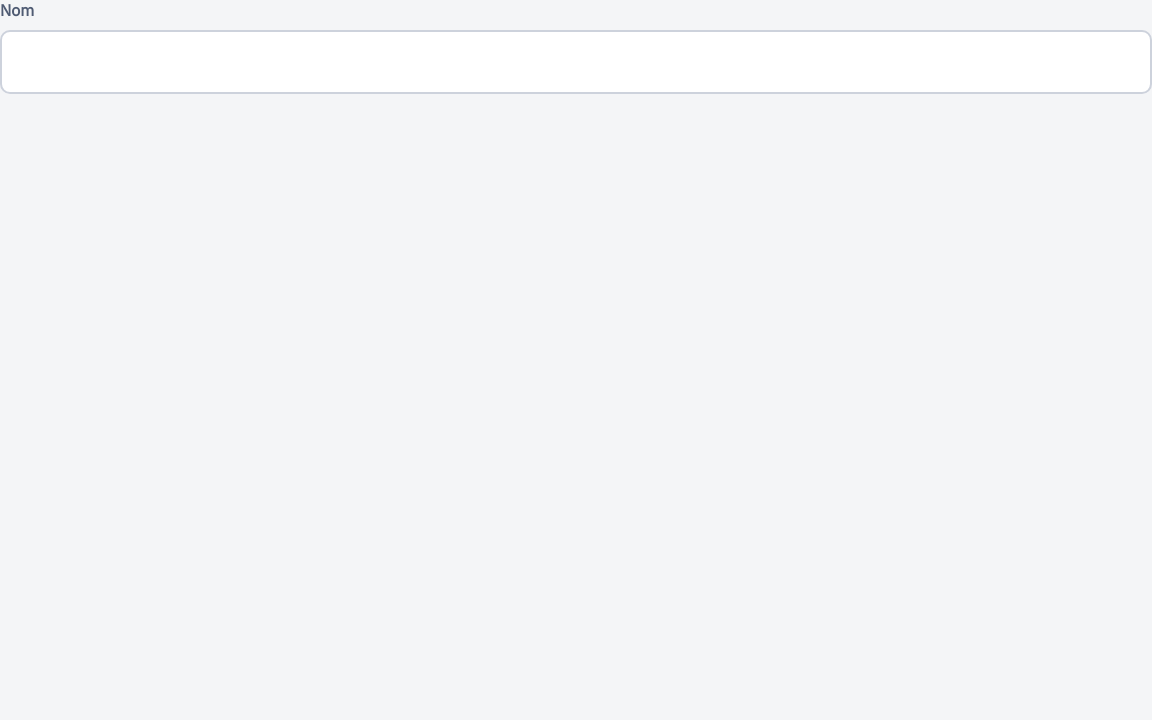
Test: TextField at the till › opens the on-screen keyboard on focus, types into the field and closes on blur
Focus the field labelled "Nom" at (576, 62), box x1=20 y1=34 x2=1132 y2=90
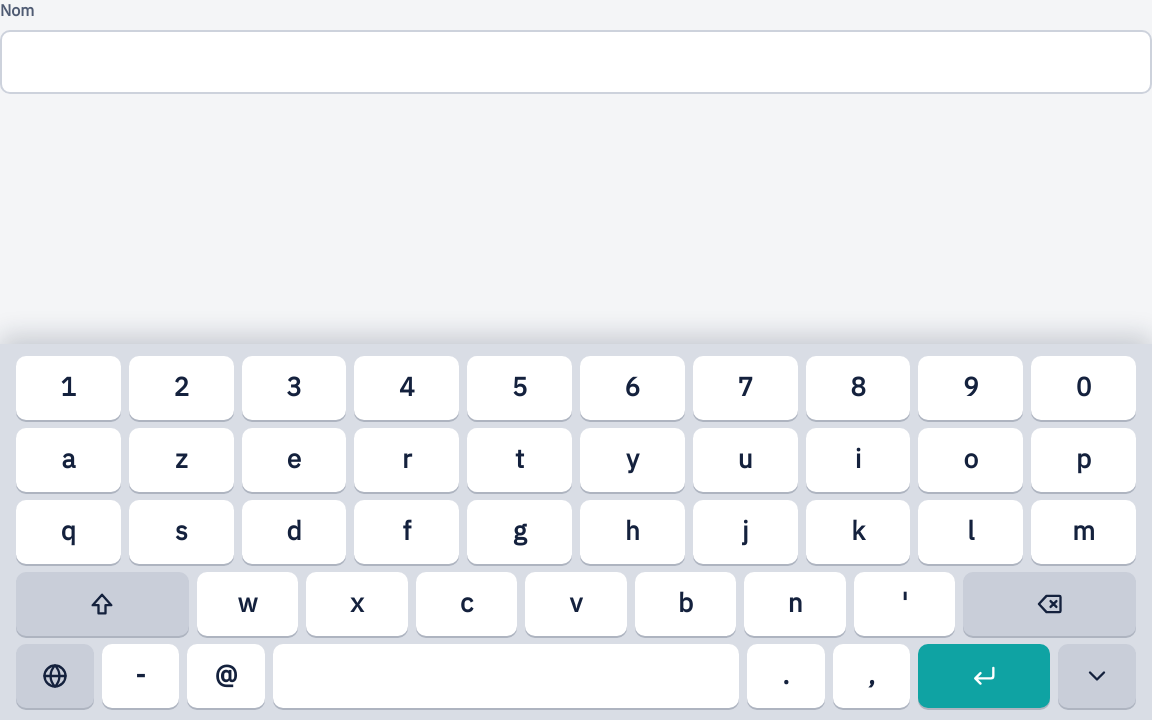
Expected: the element with test id "kbd-dock" is shown, x1=0 y1=344 x2=1151 y2=719
Click the button "a" at (68, 460), box x1=16 y1=428 x2=121 y2=492
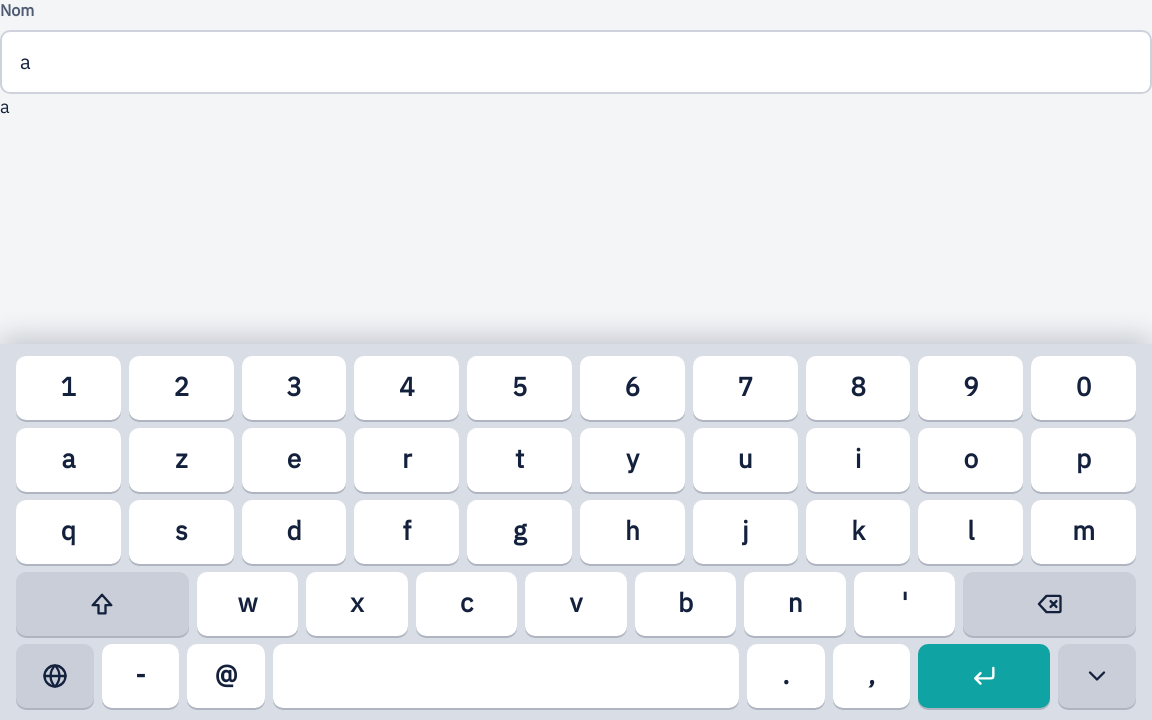
Click the button "z" at (181, 460), box x1=129 y1=428 x2=234 y2=492
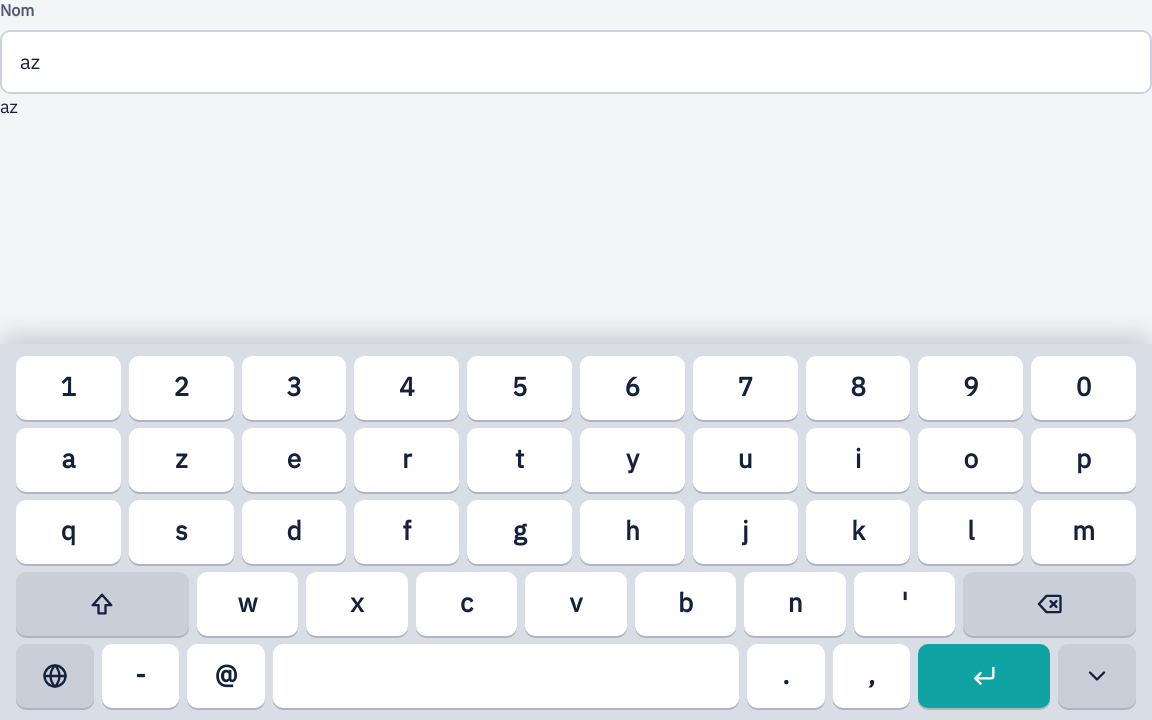
Expected: the text with test id "value" reads "az", x1=0 y1=93 x2=18 y2=120
Click the button named "Effacer" at (1050, 604), box x1=963 y1=572 x2=1136 y2=636
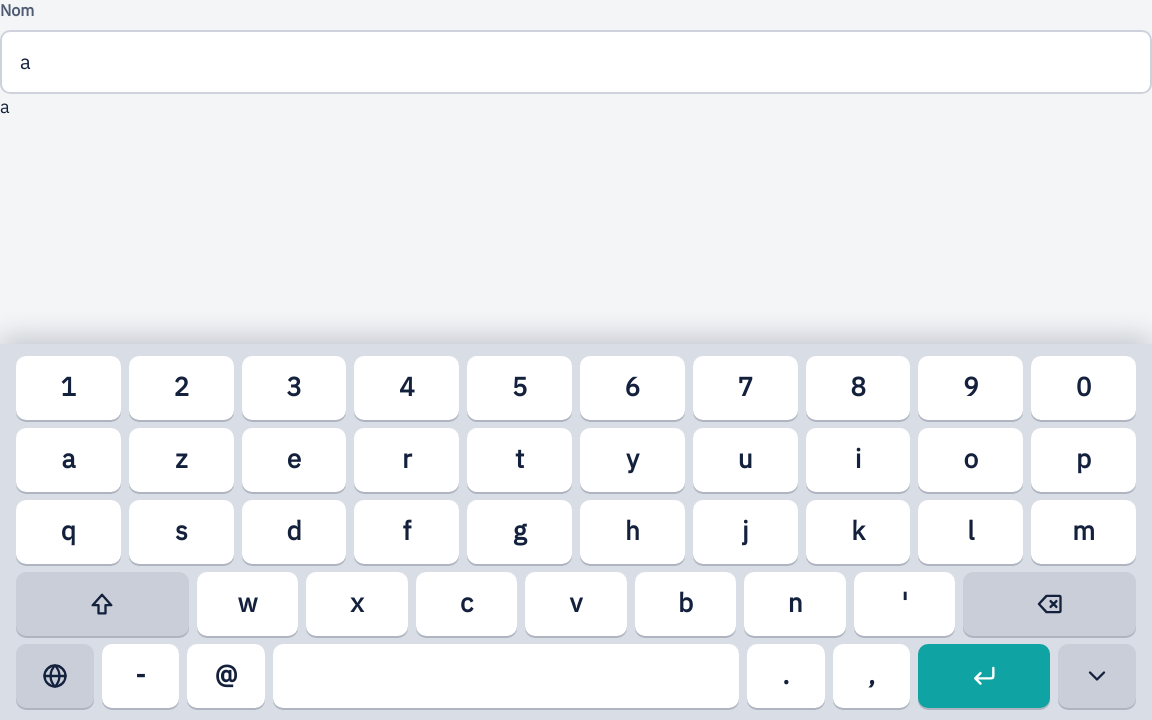
Expected: the text with test id "value" reads "a", x1=0 y1=93 x2=10 y2=120
Leave the field labelled "Nom", box x1=20 y1=34 x2=1132 y2=90
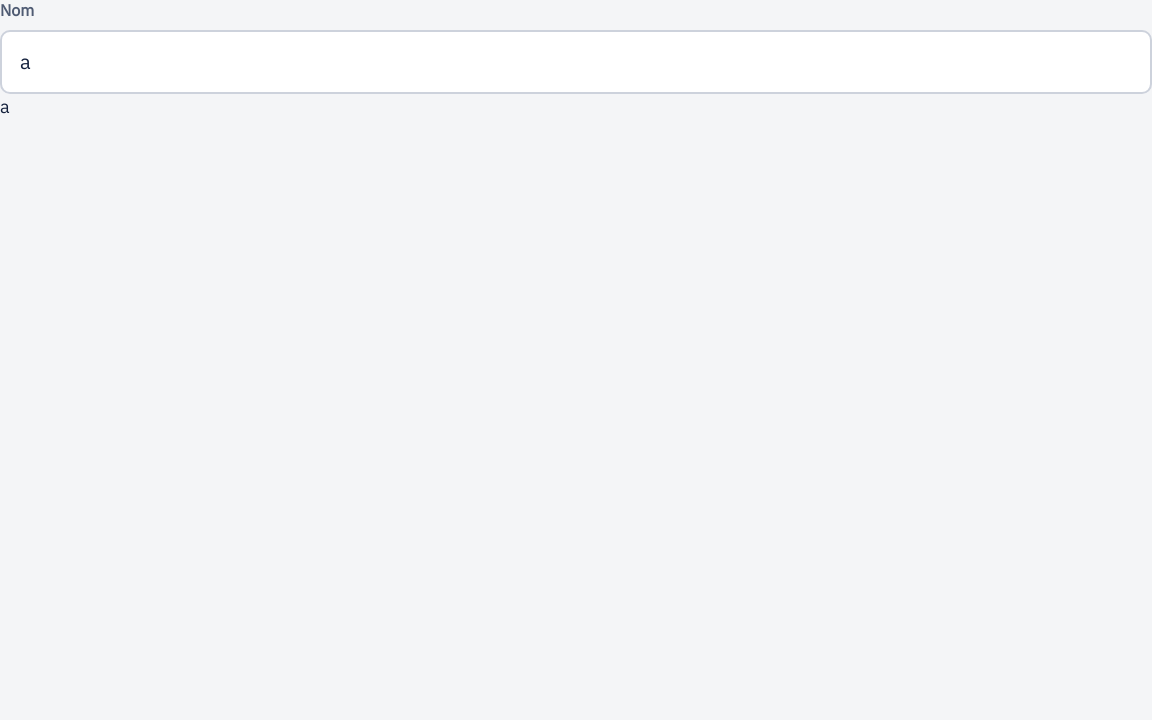
Expected: the element with test id "kbd-dock" is gone
